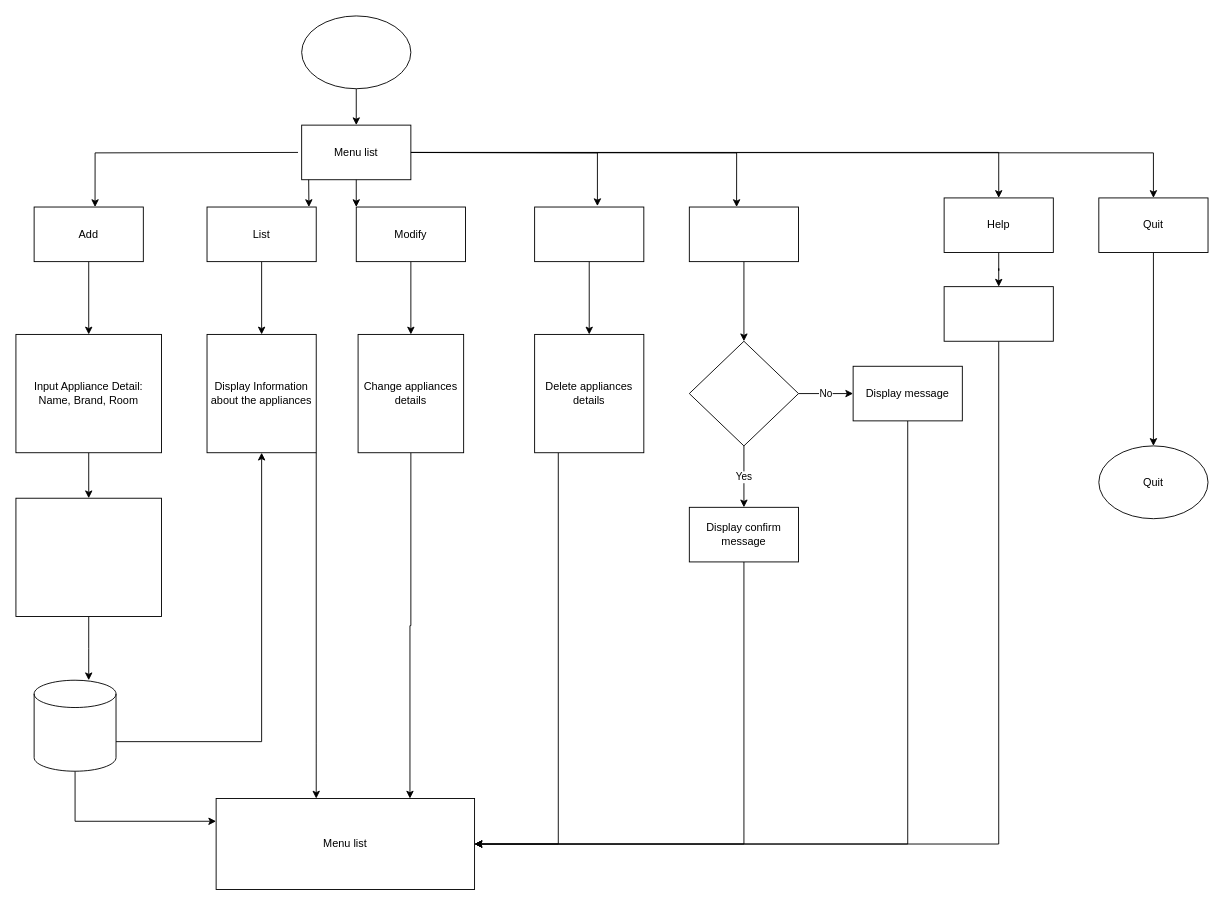
The diagram is 1224 pixels wide and 905 high, and some of its shapes have lost their labels. The shapes that lost their labels are listed below. From the top down, each one's box as (x1, y1, x2, y2) in pixels, then its label:
(301, 15, 411, 89): Start
(534, 206, 644, 262): Delete
(688, 206, 799, 262): Find
(943, 286, 1053, 341): Display help.txt
(688, 340, 799, 446): Is the item in the array?
(15, 497, 162, 617): Generate the new object
(33, 679, 116, 771): Add new object to an array
